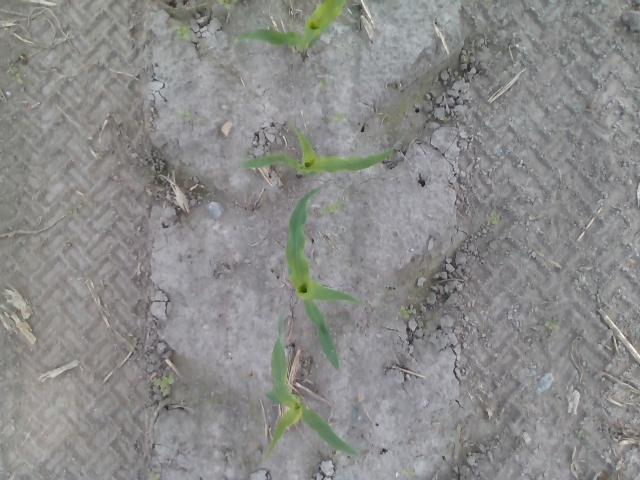Maize: (265, 306, 364, 460), (284, 180, 360, 370), (239, 124, 404, 176), (235, 0, 346, 60)
Weeds: (153, 373, 175, 397), (176, 108, 206, 125), (172, 23, 191, 41), (320, 200, 342, 214), (8, 68, 24, 84), (397, 305, 414, 318), (218, 0, 238, 10), (544, 320, 560, 331), (487, 210, 499, 224), (68, 201, 83, 212), (318, 79, 331, 89), (333, 112, 345, 122), (401, 468, 416, 476), (574, 428, 584, 438), (146, 473, 160, 480), (242, 150, 250, 159)
